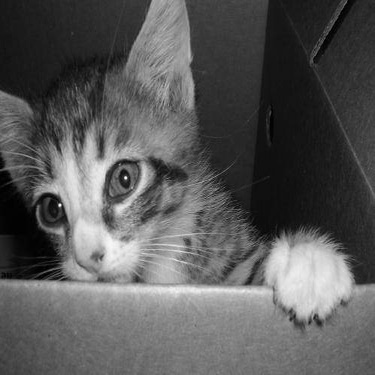cat: (1, 2, 366, 337)
